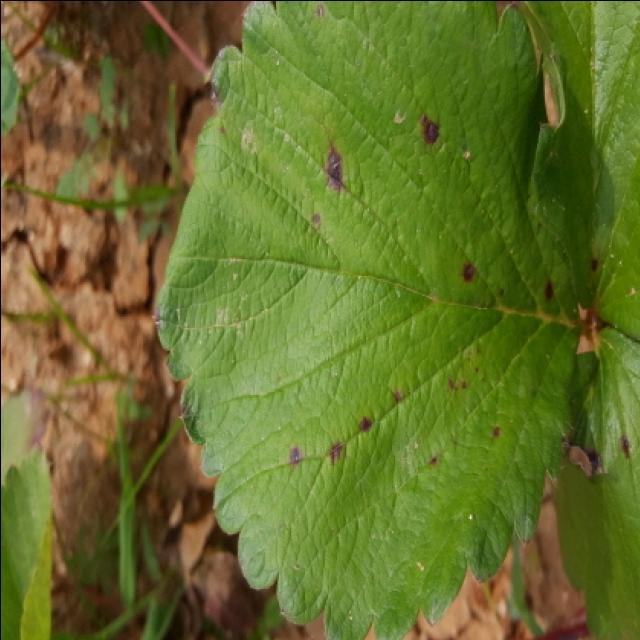Leaf Spot: (151, 2, 588, 640)
